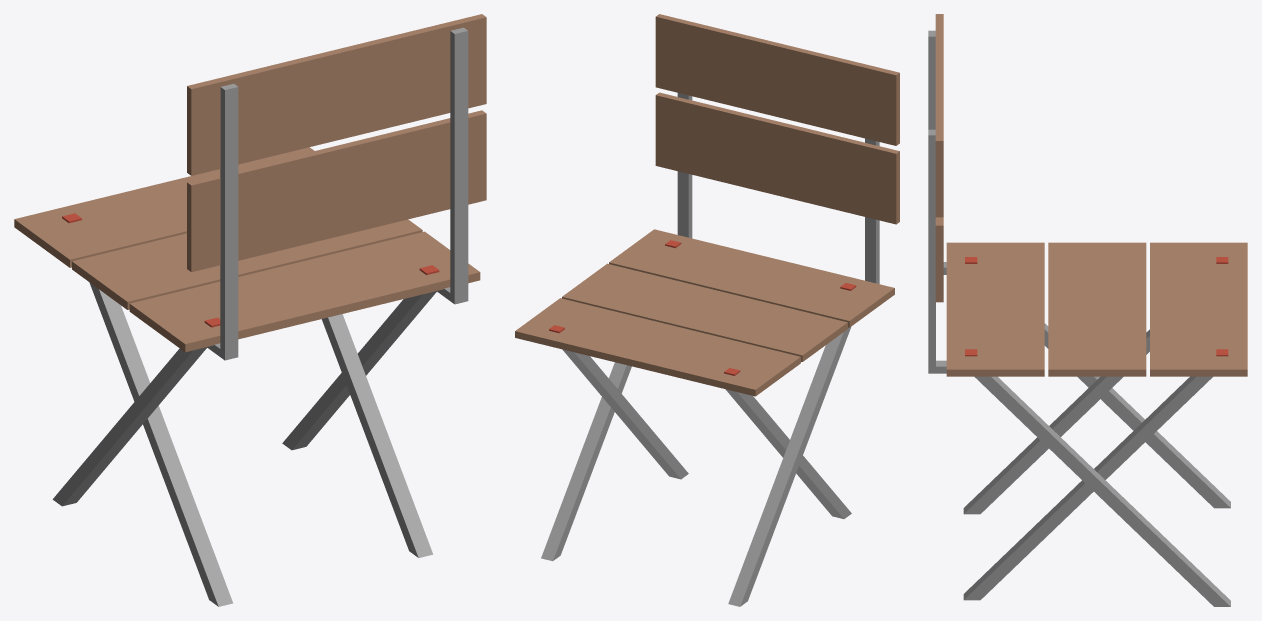
The model's file is SM_Chair_02.fbx.
3 renders of one model, left to right at view 1: azimuth 30°, elevation 25°; view 2: azimuth 150°, elevation 25°; view 3: azimuth 270°, elevation 25°, orthographic. The views are drawn at different scales.
Parts seen in each view (by area): view 1: SM_Chair_02; view 2: SM_Chair_02; view 3: SM_Chair_02.
Boxes of the visible parts, left/top/right/bottom form: SM_Chair_02: left=14, top=14, right=486, bottom=606; SM_Chair_02: left=515, top=14, right=899, bottom=606; SM_Chair_02: left=928, top=14, right=1247, bottom=606.
Bounding box in the file's own units: 40.03 × 69.95 × 42.6.
